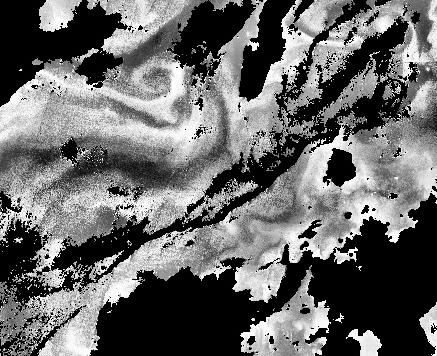CE: (134, 59, 190, 107)
